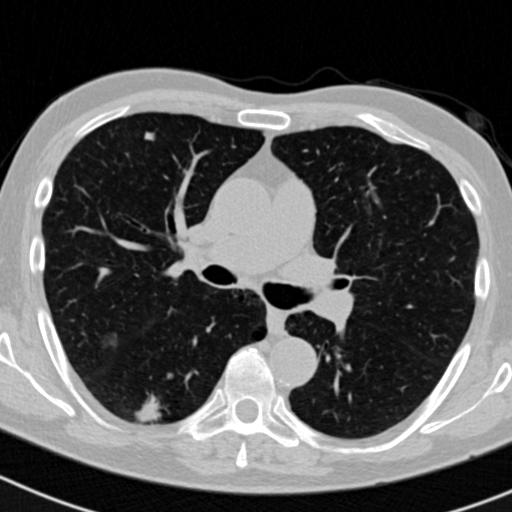nodule: (135, 395, 165, 425)
